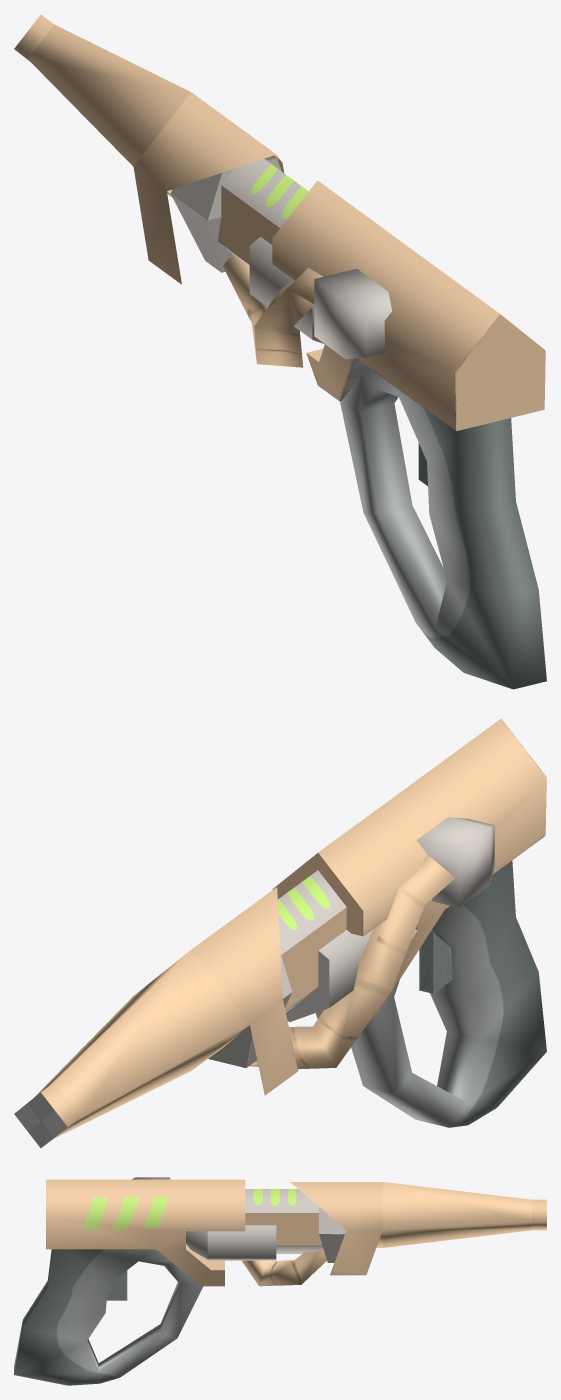
Rendered from LizardPistol.fbx.
3 renders of one model, top to bottom at view 1: azimuth 30°, elevation 25°; view 2: azimuth 150°, elevation 25°; view 3: azimuth 270°, elevation 25°, orthographic. The views are drawn at different scales.
Visible parts, largest first — view 1: LizardPistol; view 2: LizardPistol; view 3: LizardPistol.
Part boxes in pixels (x1=…): LizardPistol: x1=14, y1=14, x2=546, y2=689; LizardPistol: x1=14, y1=718, x2=546, y2=1148; LizardPistol: x1=14, y1=1177, x2=546, y2=1385.
Size of the model in its own units: 5.11 by 13.88 by 33.27.
1 material, 1 textured.
